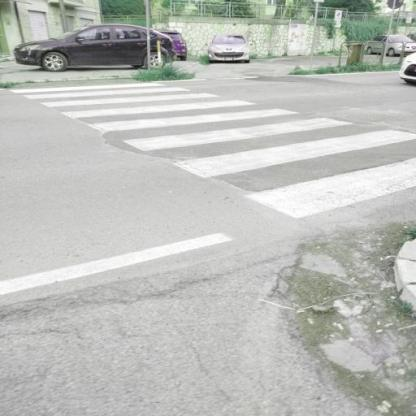crosswalk: (109, 114, 416, 181), (4, 82, 195, 102)
